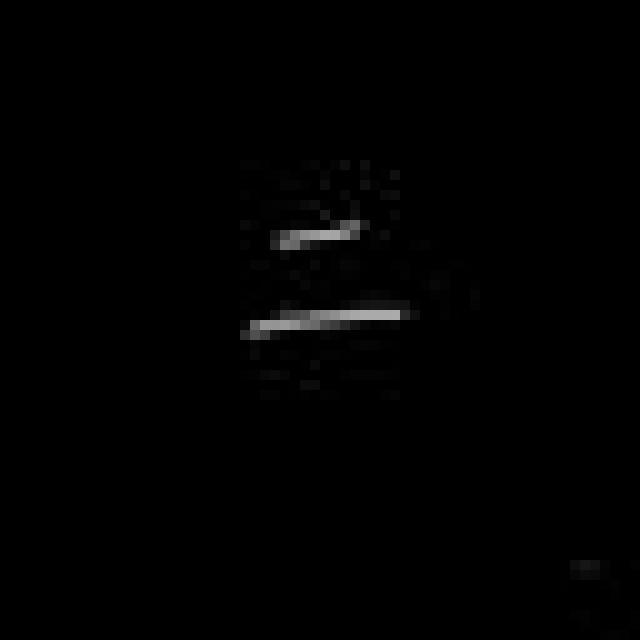2 -two-: (235, 208, 422, 354)
